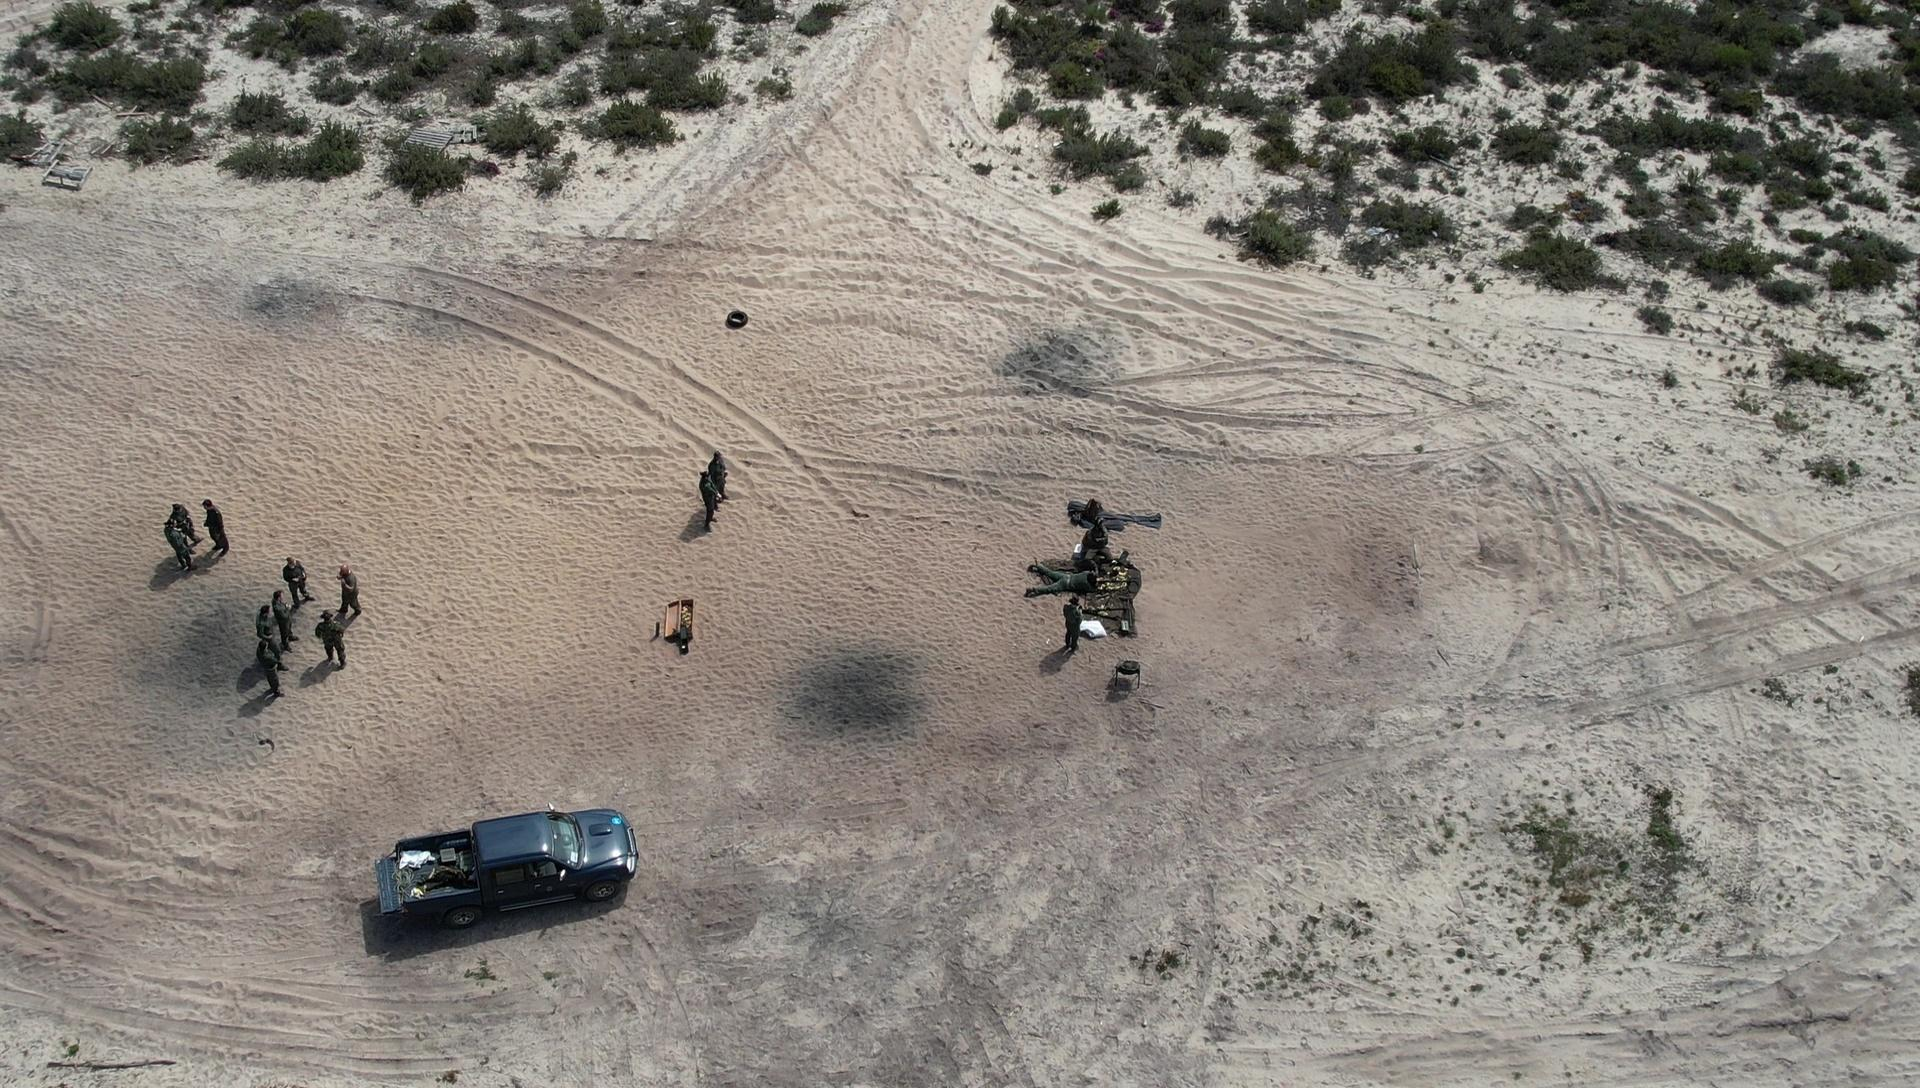Soldier: (1035, 557, 1125, 607), (1073, 525, 1120, 593), (691, 459, 737, 526), (324, 564, 372, 626), (200, 497, 239, 571), (311, 604, 352, 673), (252, 632, 290, 702), (276, 555, 316, 611), (255, 626, 287, 692), (165, 524, 200, 582), (1062, 589, 1093, 653), (702, 460, 729, 512), (255, 640, 282, 671)
